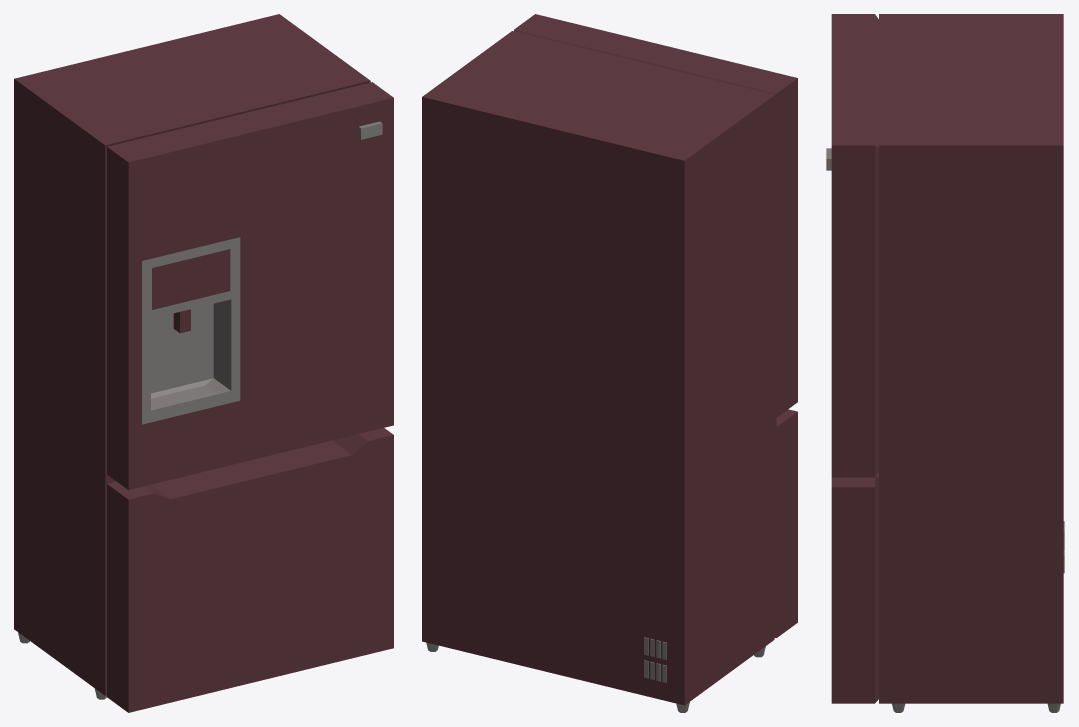
Rendered from fridge-modern-open.fbx.
3 renders of one model, left to right at view 1: azimuth 30°, elevation 25°; view 2: azimuth 150°, elevation 25°; view 3: azimuth 270°, elevation 25°, orthographic. The views are drawn at different scales.
Parts seen in each view (by area): view 1: fridge-modern-door-top, fridge-modern-base, fridge-modern-door-bottom; view 2: fridge-modern-base, fridge-modern-door-top, fridge-modern-door-bottom; view 3: fridge-modern-base, fridge-modern-door-top, fridge-modern-door-bottom.
Boxes of the visible parts, bbox=[...] form: fridge-modern-door-top: bbox=[107, 82, 393, 489]; fridge-modern-base: bbox=[14, 14, 370, 699]; fridge-modern-door-bottom: bbox=[107, 428, 393, 712]; fridge-modern-base: bbox=[422, 31, 774, 712]; fridge-modern-door-top: bbox=[514, 14, 797, 417]; fridge-modern-door-bottom: bbox=[774, 409, 797, 637]; fridge-modern-base: bbox=[879, 14, 1064, 712]; fridge-modern-door-top: bbox=[826, 14, 878, 477]; fridge-modern-door-bottom: bbox=[831, 472, 878, 703].
Size of the model in its own units: 0.9265 by 1.87 by 0.7098.
